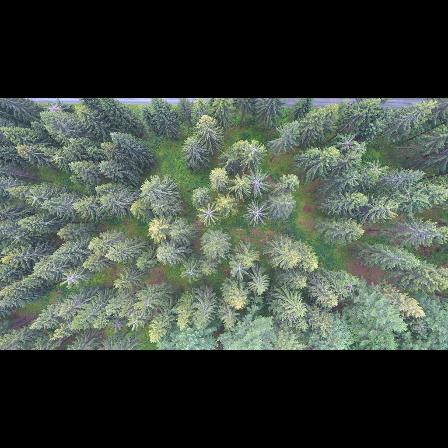Sick: (243, 169, 270, 199), (331, 134, 363, 159), (194, 203, 225, 228), (242, 201, 270, 228), (226, 259, 251, 282), (57, 270, 81, 290), (178, 265, 202, 283)
